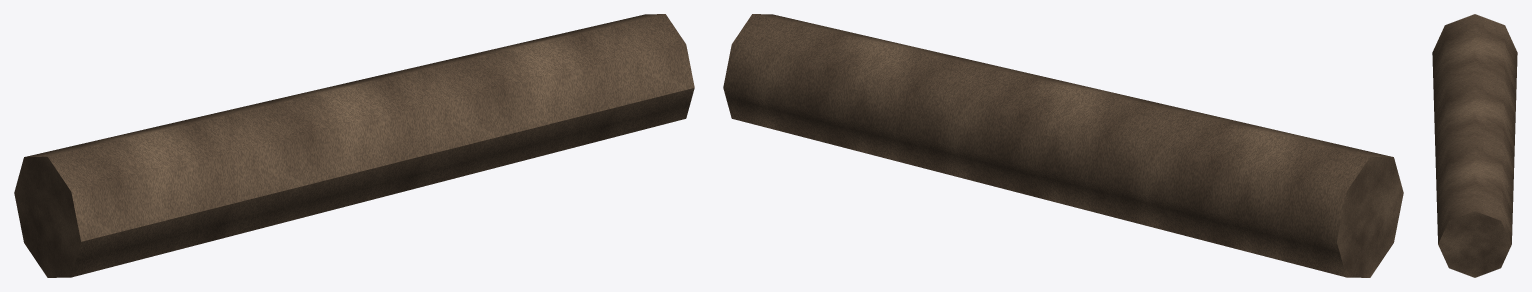
Rendered from fallen_log.obj.
3 renders of one model, left to right at view 1: azimuth 30°, elevation 25°; view 2: azimuth 150°, elevation 25°; view 3: azimuth 270°, elevation 25°, orthographic. The views are drawn at different scales.
Size of the model in its own units: 3.2 by 0.6 by 0.6.
1 material, 1 textured.
